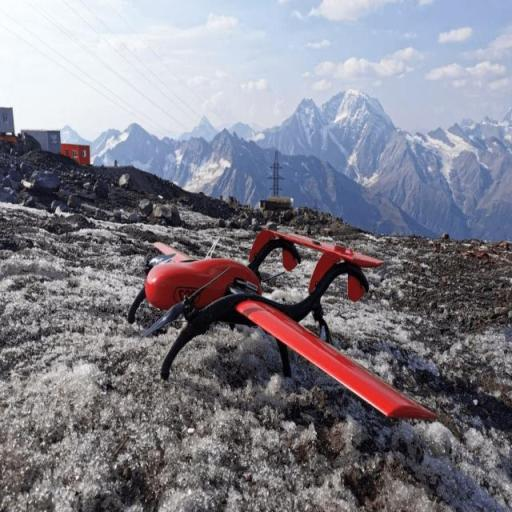uav: (118, 218, 438, 428)
